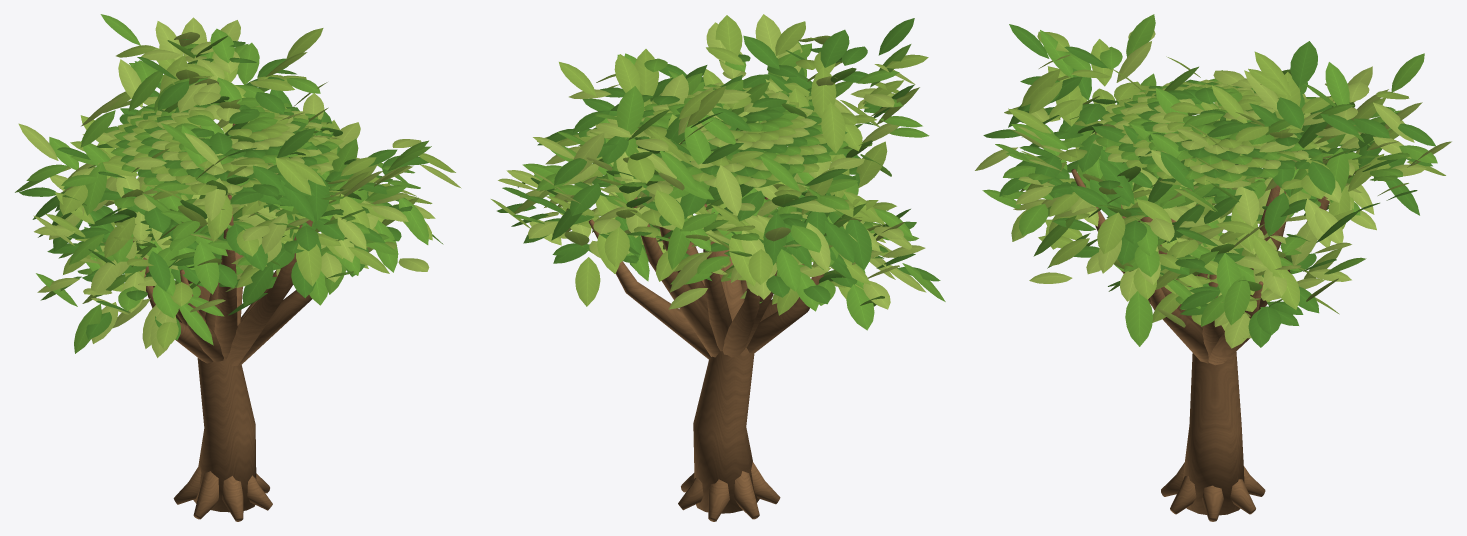
File: garden-tree.glb
3 views of the same model, side by side, from view 1: azimuth 30°, elevation 25°; view 2: azimuth 150°, elevation 25°; view 3: azimuth 270°, elevation 25° (orthographic). The views are drawn at different scales.
Parts seen in each view (by area): view 1: garden_tree; view 2: garden_tree; view 3: garden_tree.
Boxes of the visible parts, x1,y1,x2,y2 form: garden_tree: [15, 14, 461, 521]; garden_tree: [491, 14, 945, 521]; garden_tree: [975, 14, 1451, 521].
Bounding box in the file's own units: 3.56 × 3.82 × 3.75.
Materials: 5 (5 with a texture image).
